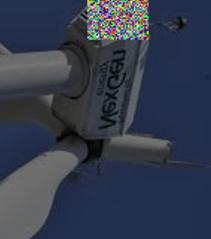faulty: (10, 117, 184, 181)
